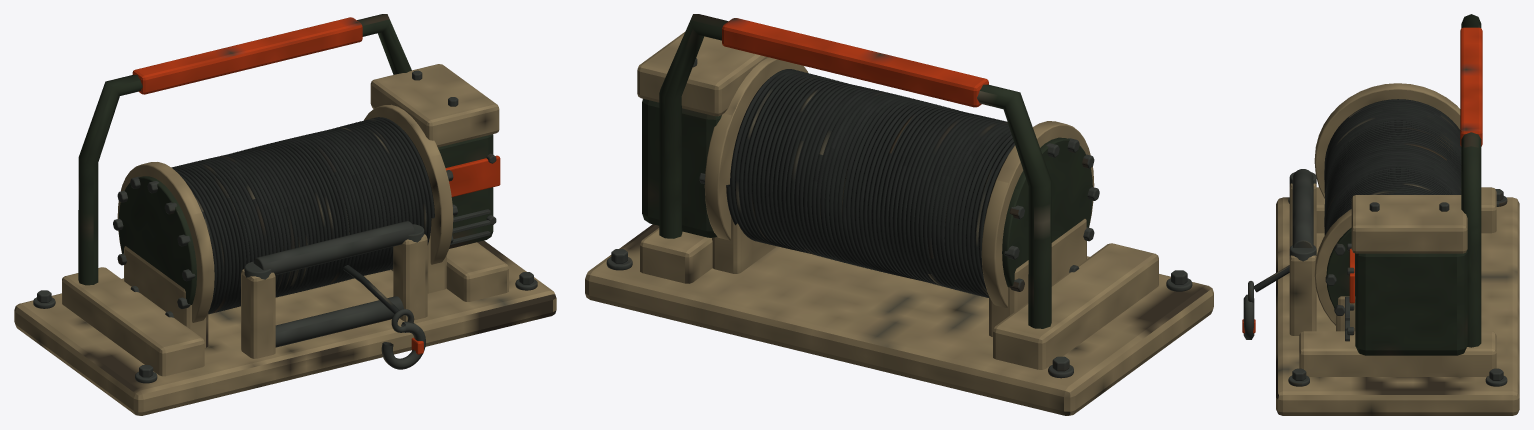
File: 35_long_line_winch.glb
The picture shows the model from 3 angles, left to right: view 1: azimuth 30°, elevation 25°; view 2: azimuth 150°, elevation 25°; view 3: azimuth 270°, elevation 25°; orthographic projection. The views are drawn at different scales.
Parts seen in each view (by area): view 1: Fixed_Body; view 2: Fixed_Body; view 3: Fixed_Body.
Boxes of the visible parts, x1,y1,x2,y2 form: Fixed_Body: (14,14,556,415); Fixed_Body: (585,14,1213,415); Fixed_Body: (1242,14,1519,415).
Size of the model in its own units: 1.22 by 0.686 by 0.7175.
Materials: 5 (5 with a texture image).
